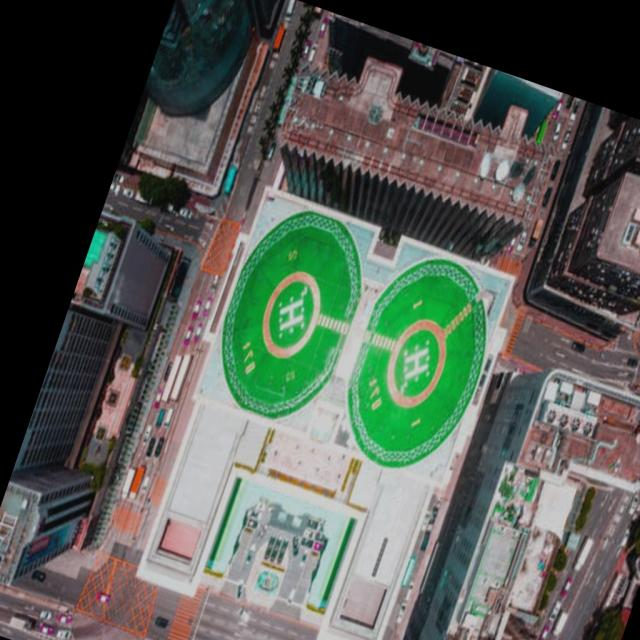helipad: (256, 268, 322, 360), (383, 317, 448, 410)
